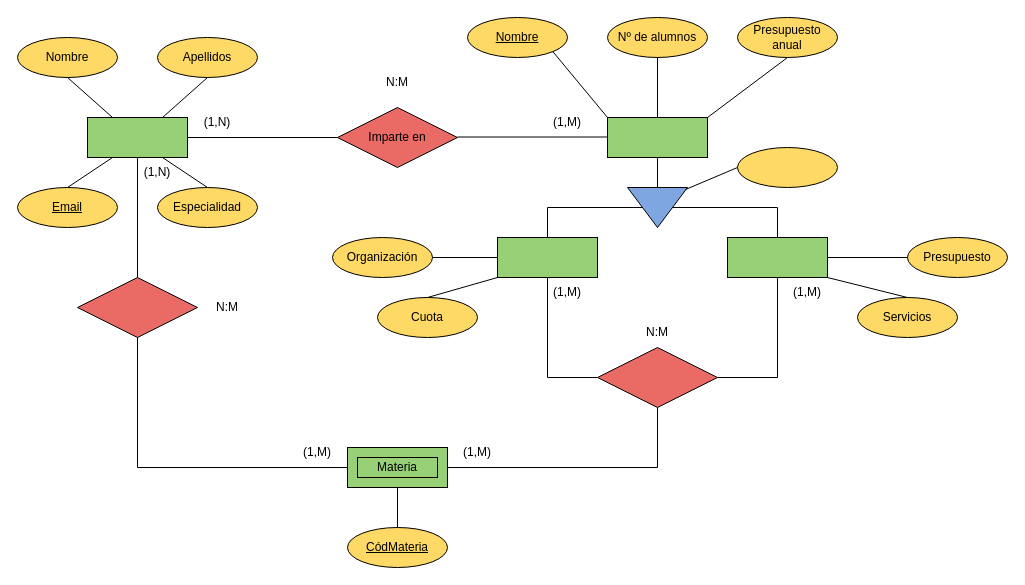
This 1025x585 diagram has some shape labels left out. Here are the shapes that lost their labels. From the top down, the centre of each, then its label:
point (137, 137): Profesor
point (657, 137): Centro
point (787, 167): Tipo
point (547, 257): Privado
point (777, 257): Público
point (137, 307): Imparte
point (657, 377): Tiene
